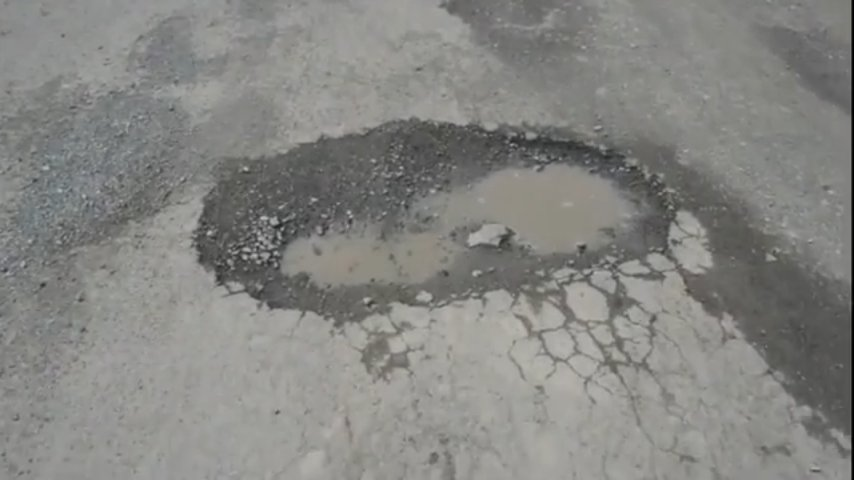pothole: (246, 126, 681, 480), (629, 145, 821, 395)
